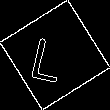L_N: (34, 27, 76, 83)
